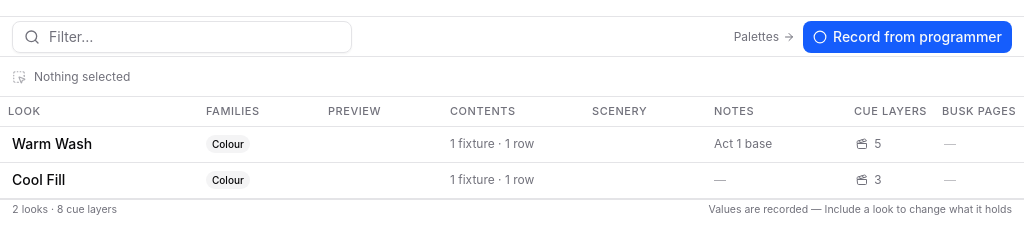
Test case: ProjectLooks › narrows by name or notes from the library row
The image size is (1024, 232).
Type "act 1" into the field named "Filter by name or notes" at (182,36), box [12, 20, 352, 52]
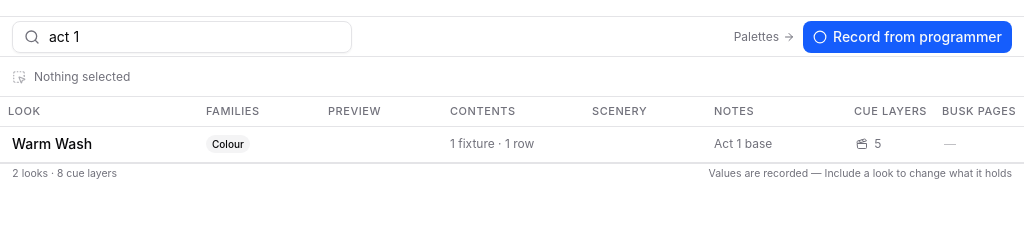
Replace the text in the field named "Filter by name or notes" with "nothing" at (182,36), box [12, 20, 352, 52]
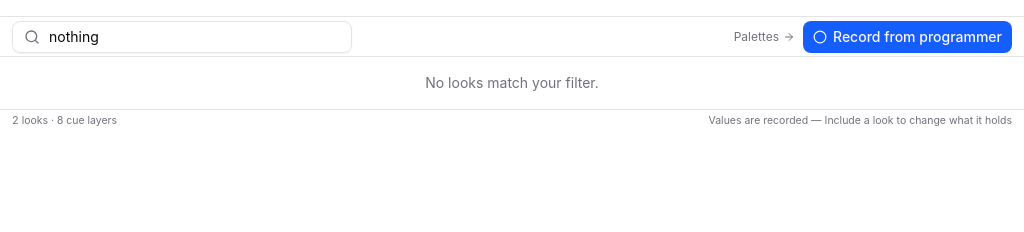
Expected: the text "No looks match your filter." is shown, [425, 74, 599, 91]
